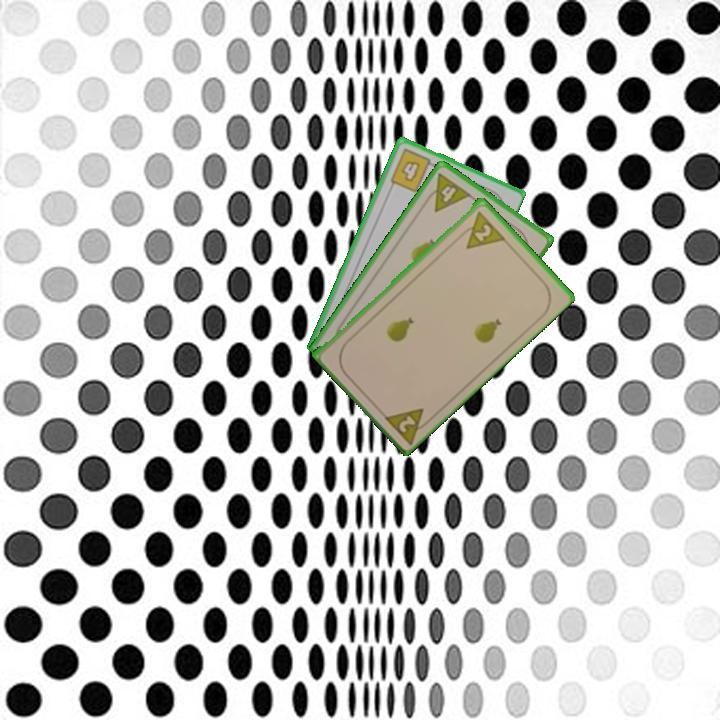2p: (379, 404, 436, 446), (455, 207, 507, 252)
4b: (386, 145, 439, 195)
4p: (420, 169, 474, 215)
